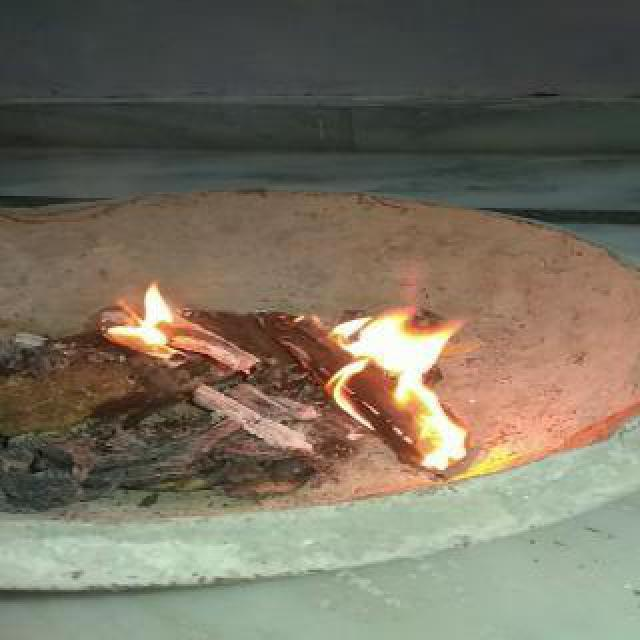zfire: (312, 298, 474, 474), (96, 266, 184, 356)
